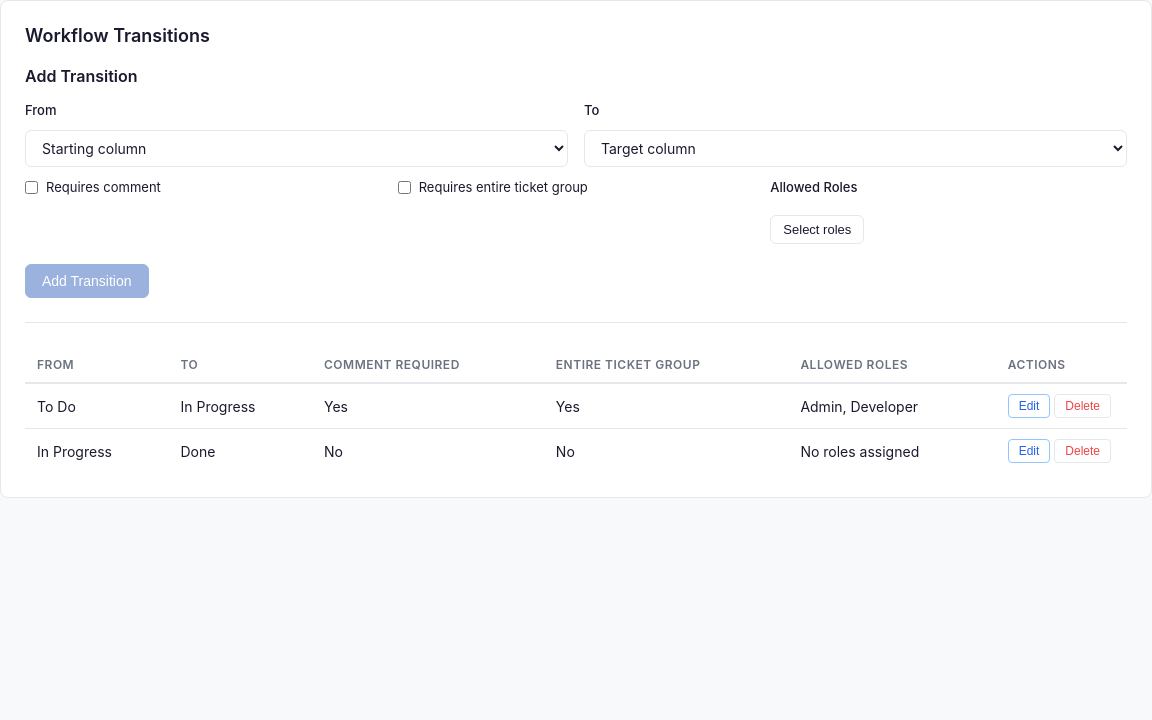
Test: WorkflowSettings - Edit Modal › openEditTransitionModal pre-fills form correctly with numeric values
# First transition has requires_comment: 1, entire_ticket_group: true
Click the button with class "edit-btn" in the row of "To Do" at [1029, 406], box [1008, 394, 1050, 418]
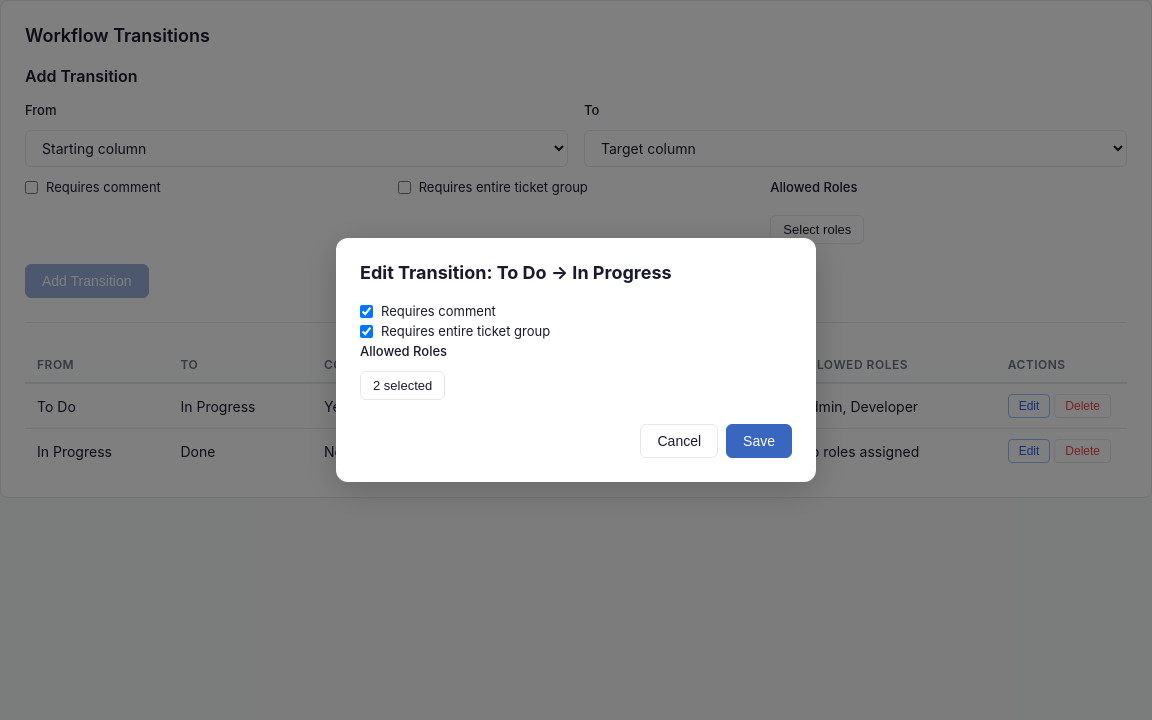
Expected: the checkbox labelled "Requires comment" is checked, [360, 304, 373, 318]
Expected: the checkbox labelled "Requires entire ticket group" is checked, [360, 324, 373, 338]
